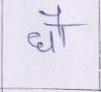au_matra: (48, 6, 72, 46)
